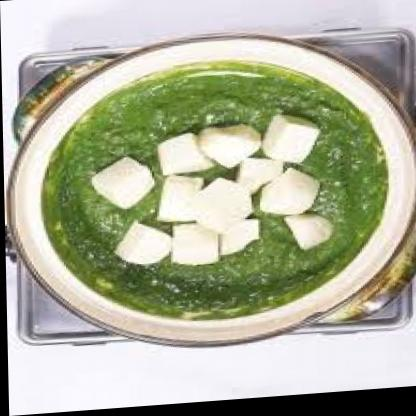palak_paneer: (38, 55, 391, 333)
